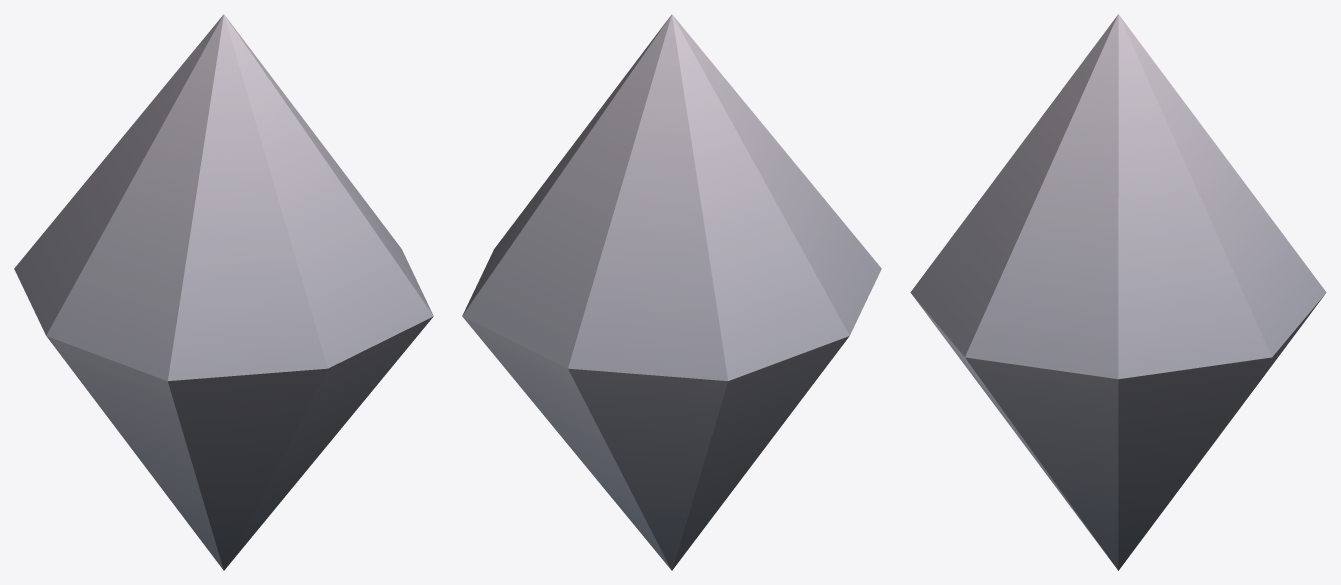
The model's file is DoubleDiamond.fbx.
3 renders of one model, left to right at view 1: azimuth 30°, elevation 25°; view 2: azimuth 150°, elevation 25°; view 3: azimuth 270°, elevation 25°, orthographic.
Parts seen in each view (by area): view 1: DoubleDiamond; view 2: DoubleDiamond; view 3: DoubleDiamond.
Boxes of the visible parts, x1,y1,x2,y2 form: DoubleDiamond: [14, 14, 433, 570]; DoubleDiamond: [462, 14, 881, 570]; DoubleDiamond: [910, 14, 1326, 570].
Bounding box in the file's own units: 176 × 263 × 178.
